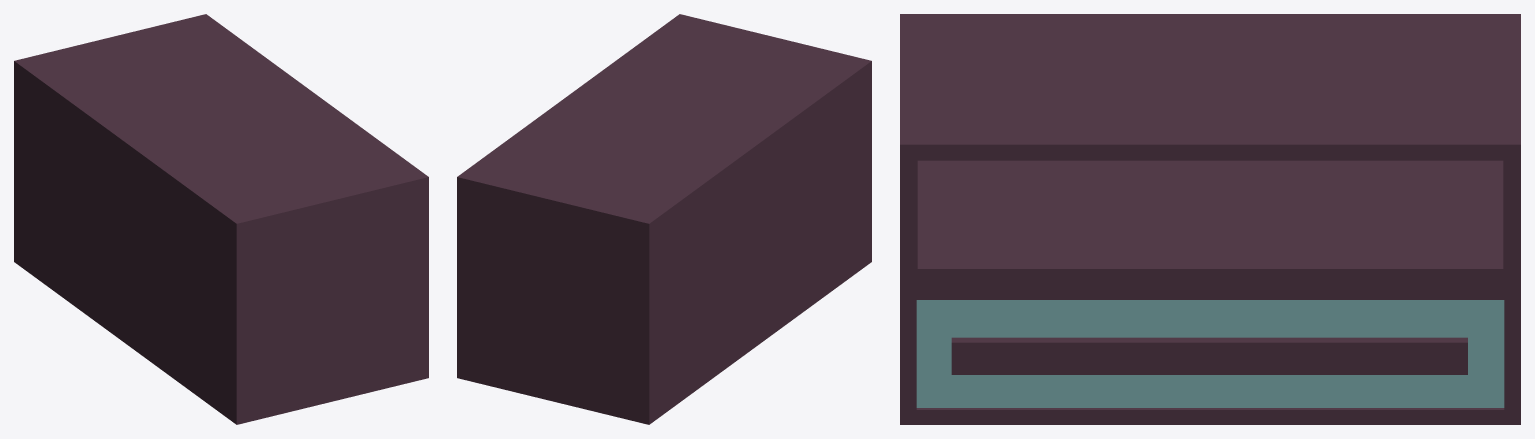
File: tabledechevet 1.fbx
3 renders of one model, left to right at view 1: azimuth 30°, elevation 25°; view 2: azimuth 150°, elevation 25°; view 3: azimuth 270°, elevation 25°, orthographic. The views are drawn at different scales.
Visible parts, largest first — view 1: Cube; view 2: Cube; view 3: Cube, Cube.002.
Boxes of the visible parts, x1,y1,x2,y2 form: Cube: (14,14,428,424); Cube: (457,14,871,424); Cube: (900,14,1520,424); Cube.002: (916,300,1504,407).
Size of the model in its own units: 81.08 by 78.69 by 158.
